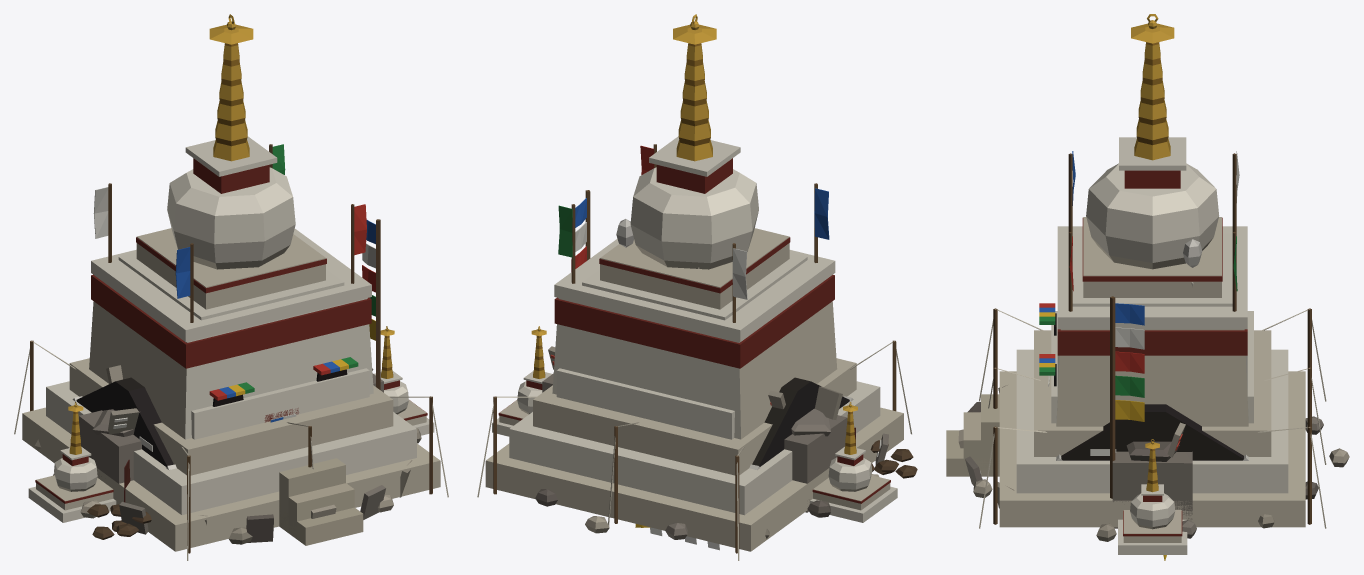
Rendered from highlands.glb.
3 renders of one model, left to right at view 1: azimuth 30°, elevation 25°; view 2: azimuth 150°, elevation 25°; view 3: azimuth 270°, elevation 25°, orthographic.
Visible parts, largest first — view 1: highlands_chorten_great_a, highlands_hermitage_a, highlands_mani_wall_a, highlands_nomad_tent_a; view 2: highlands_chorten_great_a, highlands_hermitage_a, highlands_mani_wall_a, highlands_nomad_tent_a; view 3: highlands_chorten_great_a, highlands_hermitage_a, highlands_nomad_tent_a, highlands_mani_wall_a.
Boxes of the visible parts, bbox=[...] form: highlands_chorten_great_a: bbox=[22, 14, 440, 551]; highlands_hermitage_a: bbox=[89, 144, 373, 439]; highlands_mani_wall_a: bbox=[28, 326, 434, 522]; highlands_nomad_tent_a: bbox=[14, 219, 448, 560]; highlands_chorten_great_a: bbox=[485, 14, 903, 551]; highlands_hermitage_a: bbox=[552, 144, 837, 439]; highlands_mani_wall_a: bbox=[492, 326, 897, 522]; highlands_nomad_tent_a: bbox=[477, 190, 917, 560]; highlands_chorten_great_a: bbox=[946, 14, 1349, 541]; highlands_hermitage_a: bbox=[1039, 151, 1248, 426]; highlands_nomad_tent_a: bbox=[979, 296, 1326, 528]; highlands_mani_wall_a: bbox=[1112, 422, 1192, 554].
Size of the model in its own units: 3.22 by 4.34 by 3.03.
